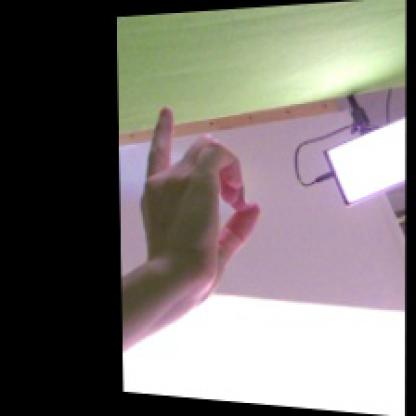Hand: (140, 106, 260, 311)
